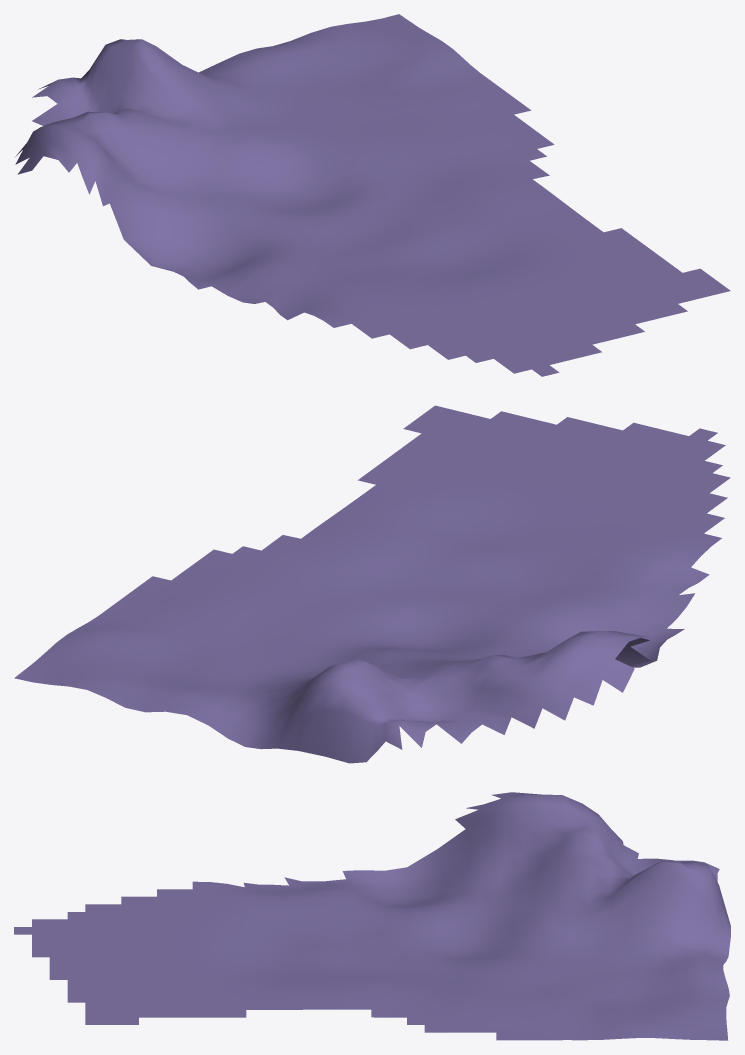
Rendered from terrain.fbx.
3 renders of one model, top to bottom at view 1: azimuth 30°, elevation 25°; view 2: azimuth 150°, elevation 25°; view 3: azimuth 270°, elevation 25°, orthographic. The views are drawn at different scales.
Parts seen in each view (by area): view 1: Terrain; view 2: Terrain; view 3: Terrain.
Part boxes in pixels (x1,y1,x2,y2): Terrain: (15, 14, 730, 376); Terrain: (14, 405, 730, 763); Terrain: (14, 792, 730, 1040).
Size of the model in its own units: 44.43 by 7.76 by 65.28.
